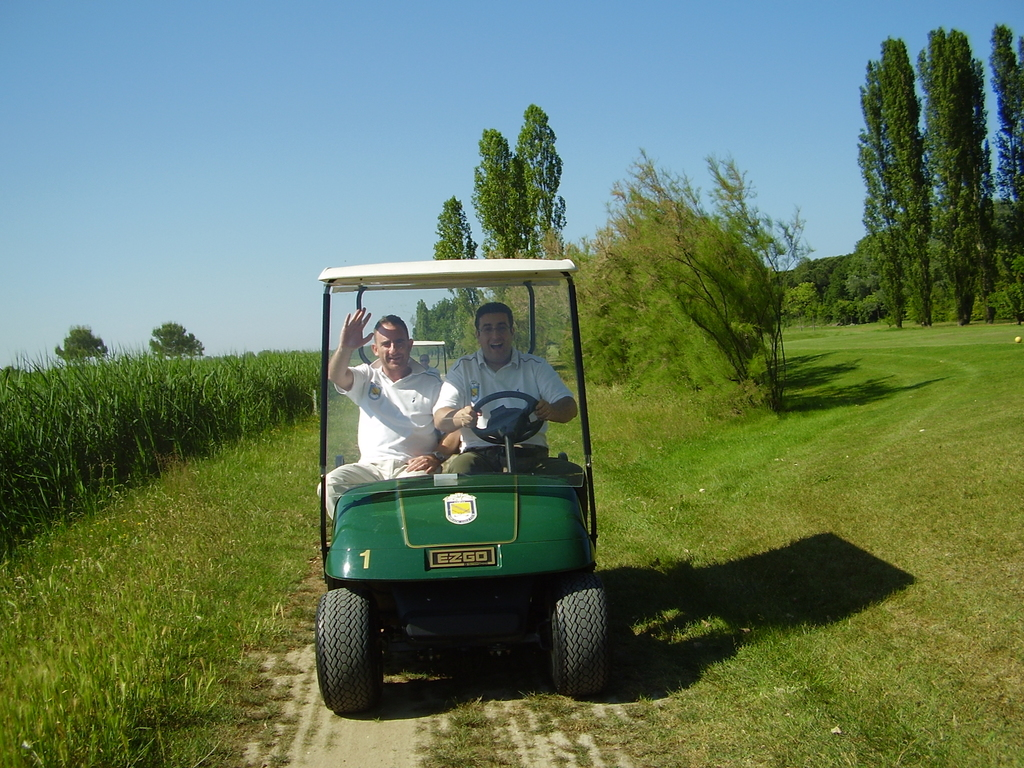Tree: (411, 19, 1024, 413), (149, 323, 205, 366), (56, 323, 108, 369)
